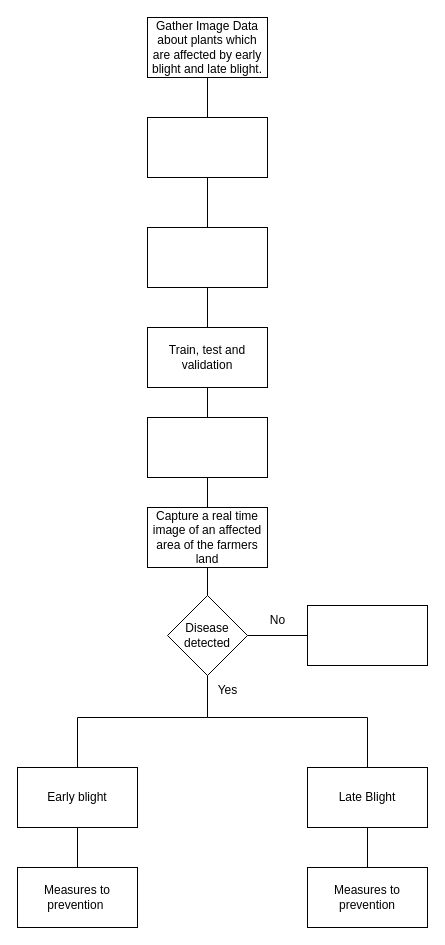
Some shapes in this 445 by 945 pixel diagram are drawn without their labels. Each missing label, with the centre of its shape:
"Classification and putting into two categories" goes at point (207, 447).
"Data cleaning and preprocessing to produce new images of the existing image." goes at point (207, 147).
"Healthy Plant" goes at point (367, 635).
"Model Building using Cnn" goes at point (207, 257).
